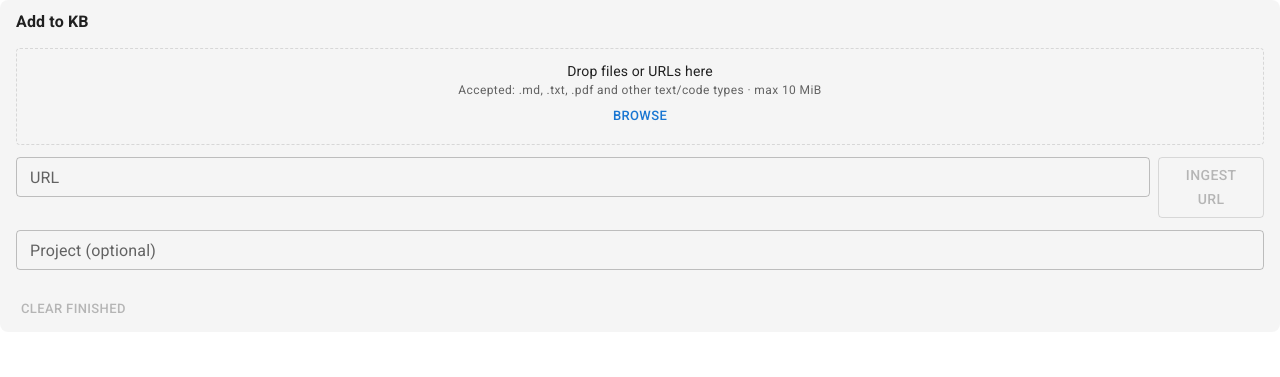
AddToKbPanel › offers listKbProjects names as suggestions
In the dropdown labelled "Project (optional)": [638, 250] box [22, 236, 1255, 264], type "proj"
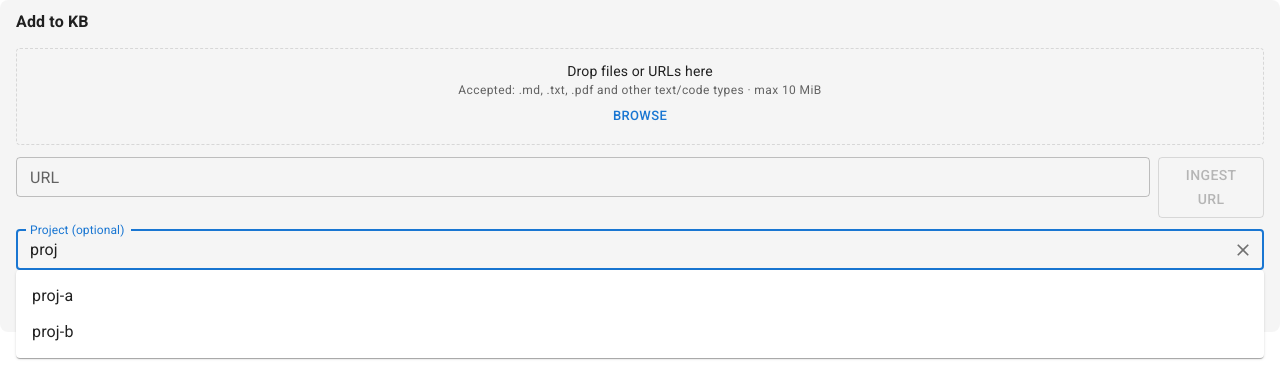
Check: the option "proj-a" is shown, box [32, 286, 73, 305]
Check: the option "proj-b" is shown, box [32, 322, 74, 341]
